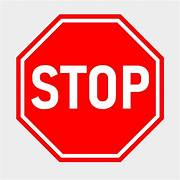stop: (16, 13, 164, 164)
